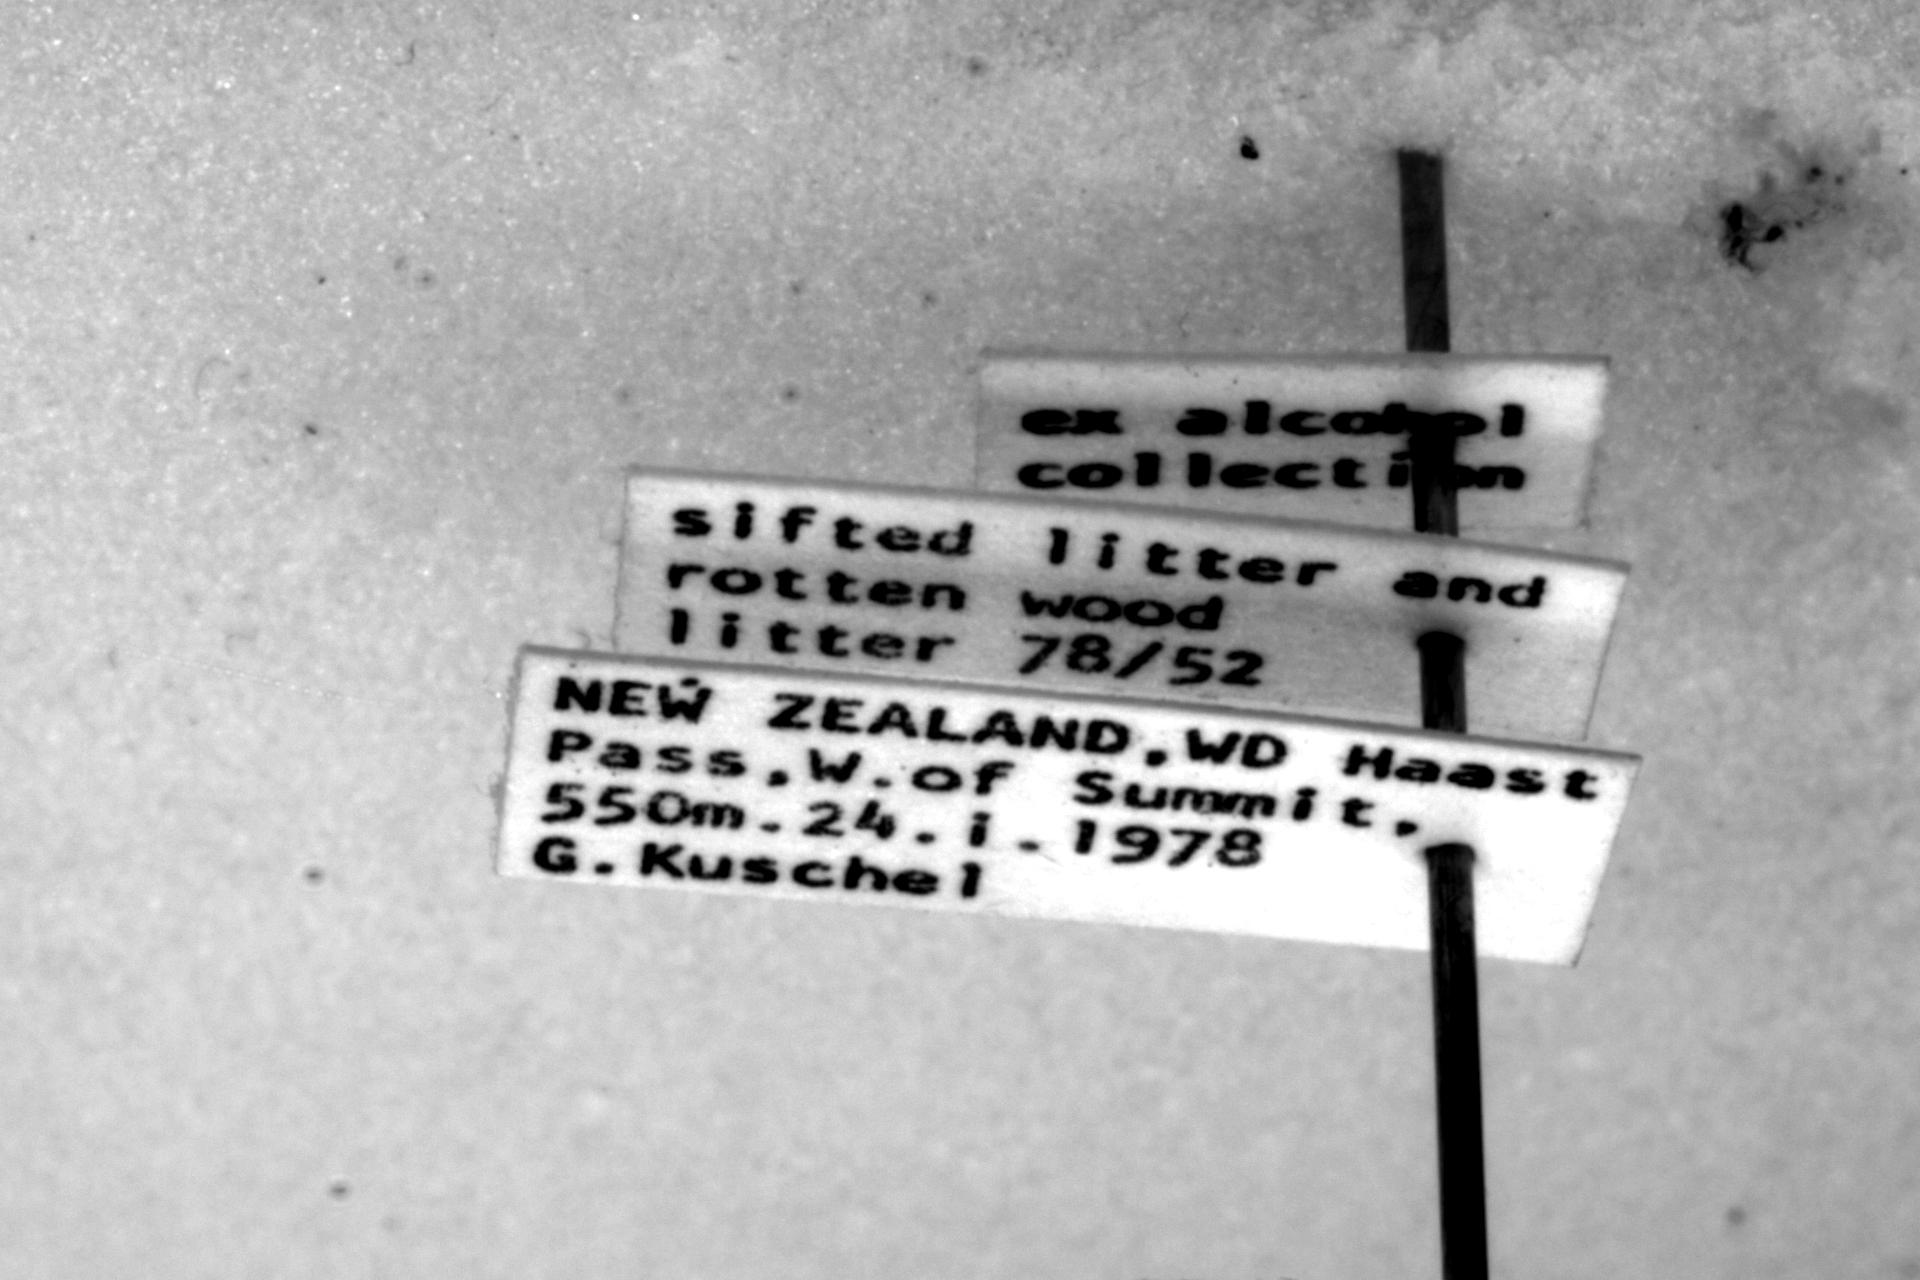typed_label: (494, 649, 1639, 964), (614, 469, 1627, 739), (979, 349, 1609, 529)
